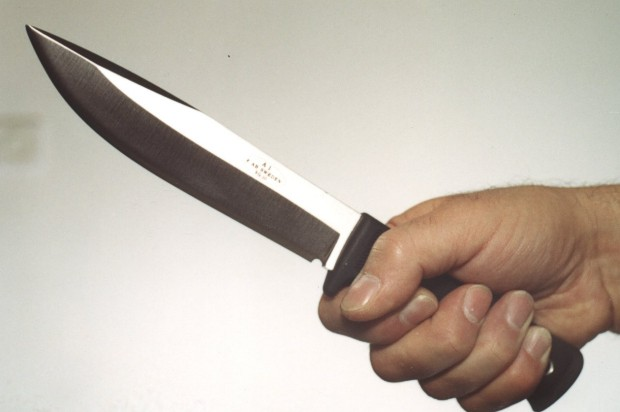knife: (22, 19, 589, 412)
